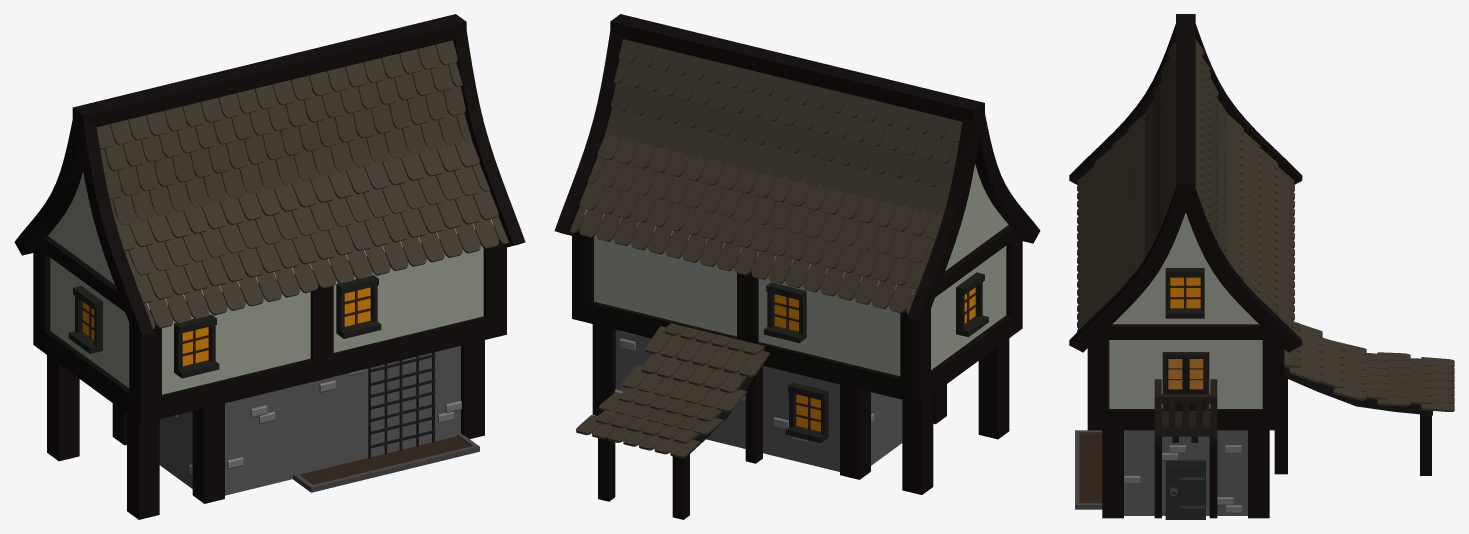
File: Lowpolybuilding.fbx
3 renders of one model, left to right at view 1: azimuth 30°, elevation 25°; view 2: azimuth 150°, elevation 25°; view 3: azimuth 270°, elevation 25°, orthographic. The views are drawn at different scales.
Parts seen in each view (by area): view 1: Tiles, Cube.017, Cube, Lower house, Vineladder, Cube.001, Stone, Window frame.001, Window frame, Window frame.004, Cube.013, Glass (+1 smaller); view 2: Tiles, Cube.017, Cube, Lower house, Window frame.005, Window frame.003, Window frame.004, Glass.003, Glass.005; view 3: Tiles, Cube.017, Cube, Lower house, Cube.004, Cube.003, Cube.001, Cube.007, Window frame.002, Cube.012, Cube.013, Glass.002 (+4 smaller).
Part boxes in pixels (bbox=[...]): Tiles: bbox=[96, 40, 508, 329]; Cube.017: bbox=[14, 14, 525, 519]; Cube: bbox=[48, 171, 493, 394]; Lower house: bbox=[159, 346, 460, 495]; Vineladder: bbox=[368, 352, 435, 458]; Cube.001: bbox=[299, 436, 470, 484]; Stone: bbox=[293, 433, 479, 492]; Window frame.001: bbox=[336, 275, 381, 338]; Window frame: bbox=[174, 314, 219, 378]; Window frame.004: bbox=[68, 285, 102, 353]; Cube.013: bbox=[175, 369, 461, 473]; Glass: bbox=[182, 327, 208, 366]; Tiles: bbox=[569, 39, 962, 458]; Cube.017: bbox=[554, 14, 1040, 519]; Cube: bbox=[584, 163, 1008, 375]; Lower house: bbox=[615, 330, 902, 471]; Window frame.005: bbox=[785, 382, 828, 443]; Window frame.003: bbox=[764, 282, 806, 343]; Window frame.004: bbox=[956, 272, 988, 337]; Glass.003: bbox=[774, 294, 798, 331]; Glass.005: bbox=[796, 394, 820, 431]; Tiles: bbox=[1077, 39, 1454, 411]; Cube.017: bbox=[1069, 14, 1431, 518]; Cube: bbox=[1109, 212, 1262, 408]; Lower house: bbox=[1124, 430, 1247, 515]; Cube.004: bbox=[1154, 379, 1217, 436]; Cube.003: bbox=[1169, 465, 1202, 517]; Cube.001: bbox=[1079, 434, 1102, 503]; Cube.007: bbox=[1284, 367, 1432, 415]; Window frame.002: bbox=[1165, 268, 1204, 318]; Cube.012: bbox=[1168, 359, 1203, 389]; Cube.013: bbox=[1124, 445, 1242, 513]; Glass.002: bbox=[1170, 277, 1200, 308].
Size of the model in its own units: 831 by 737 by 742.
